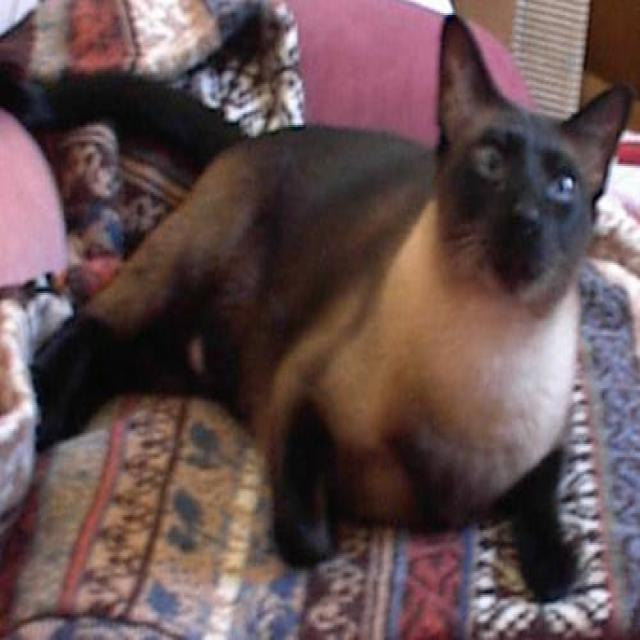cat: (39, 11, 634, 597)
